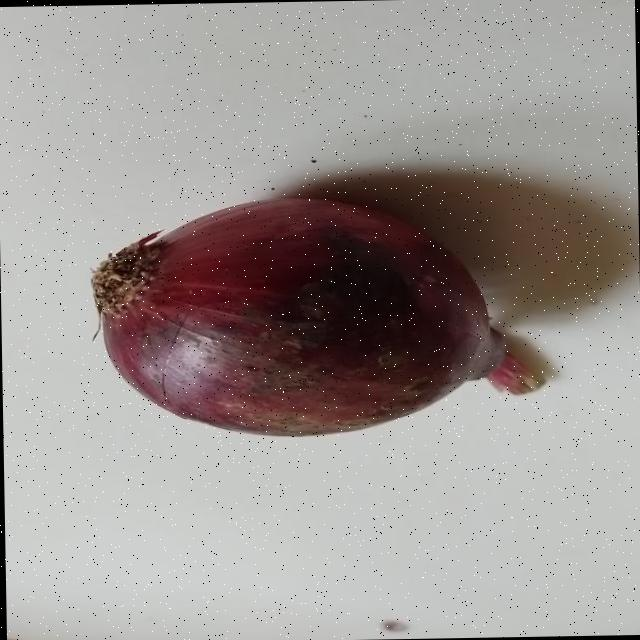Onion: (90, 197, 544, 434)
